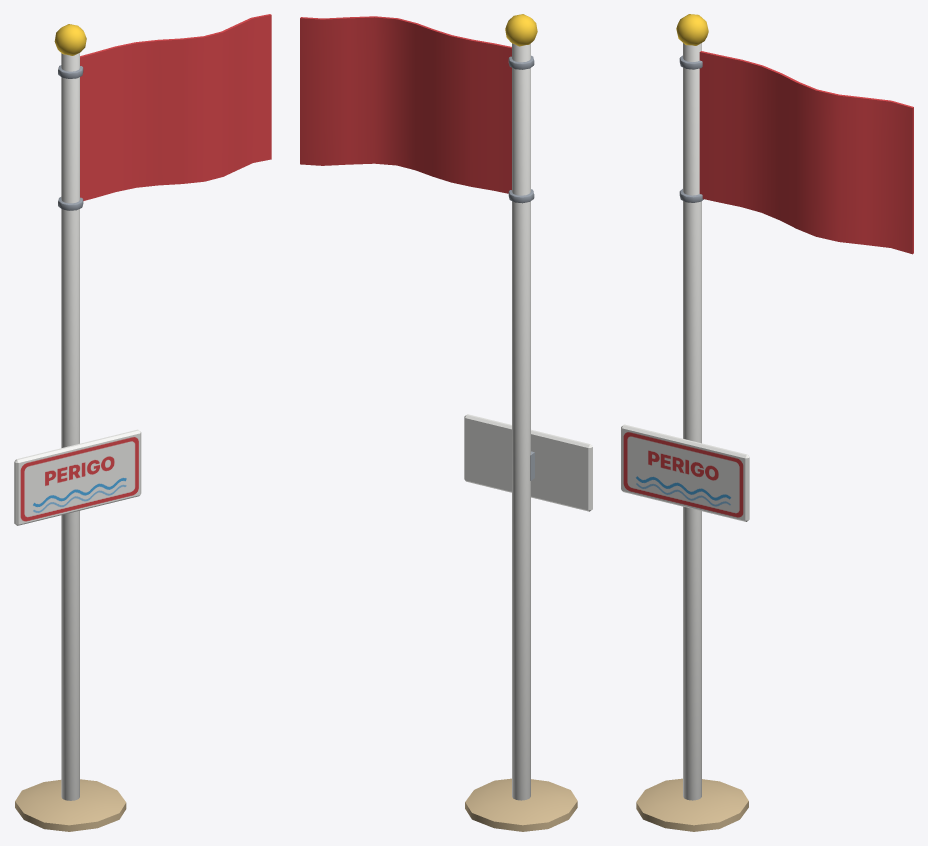
File: bandeira_aviso_vermelha.glb
The picture shows the model from 3 angles, left to right: view 1: azimuth 30°, elevation 25°; view 2: azimuth 150°, elevation 25°; view 3: azimuth 330°, elevation 25°; orthographic projection.
Parts seen in each view (by area): view 1: bandeira, bandeira_aviso_vermelha; view 2: bandeira, bandeira_aviso_vermelha; view 3: bandeira, bandeira_aviso_vermelha.
Part boxes in pixels (x1,y1,x2,y2): bandeira: [58, 14, 271, 210]; bandeira_aviso_vermelha: [14, 24, 141, 831]; bandeira: [300, 16, 534, 203]; bandeira_aviso_vermelha: [464, 14, 592, 831]; bandeira: [679, 51, 913, 254]; bandeira_aviso_vermelha: [621, 14, 749, 831].
Bounding box in the file's own units: 1.34 × 3.71 × 0.4611.
Materials: 2 (2 with a texture image).
